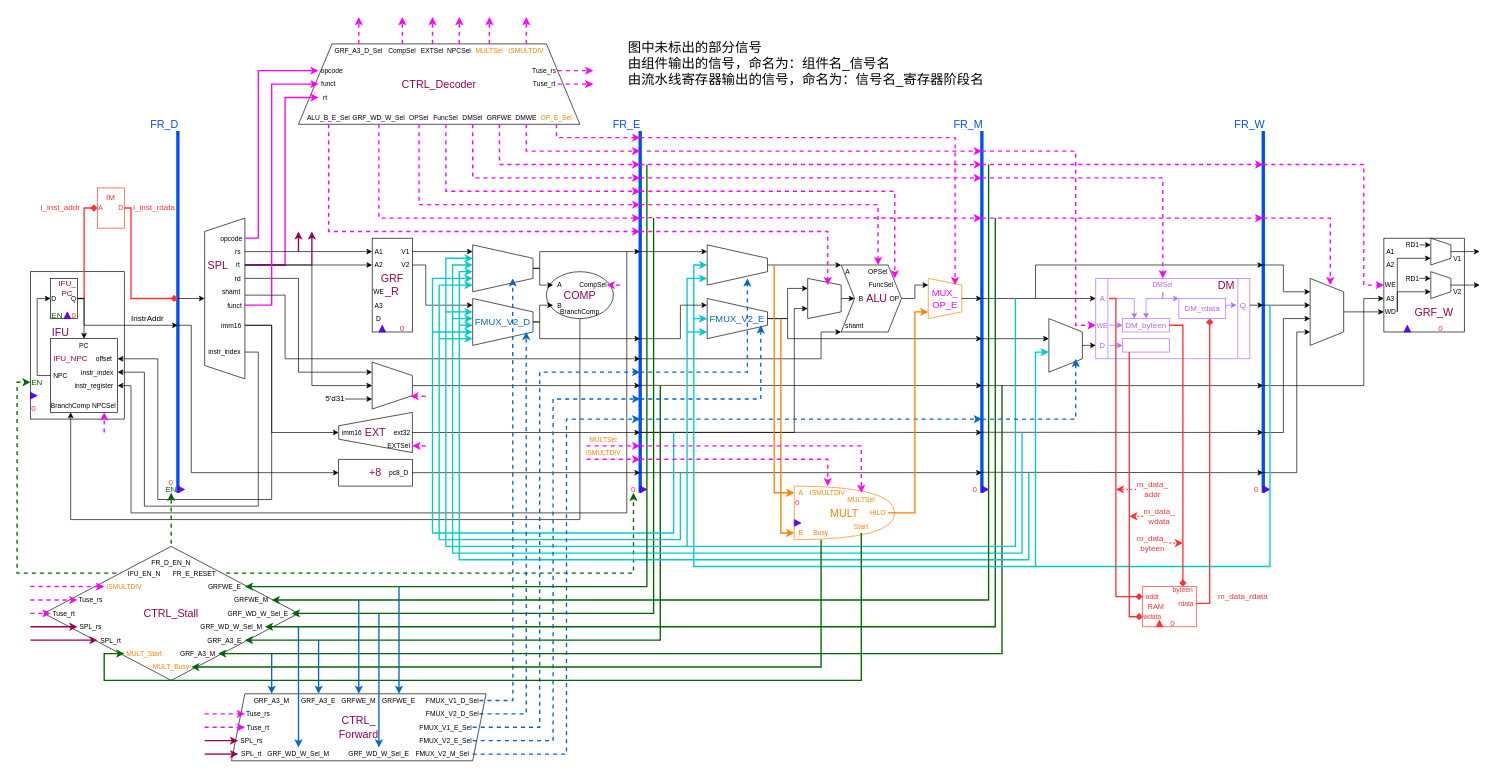
Some shapes in this 1497 by 773 pixel diagram are drawn without their labels. Here are the shapes that lost their labels. From the top down, the centre of each, then its label:
At point 502,268: "FMUX_V1_D".
At point 737,264: "FMUX_V1_E".
At point 824,298: "MUX_ ALU_B _E".
At point 1327,311: "MUX_ GRF_ WD_W".
At point 1065,345: "FMUX_ DM_D _M".
At point 1145,345: "DM_wdata".
At point 392,385: "MUX_ GRF_A3 _D".
